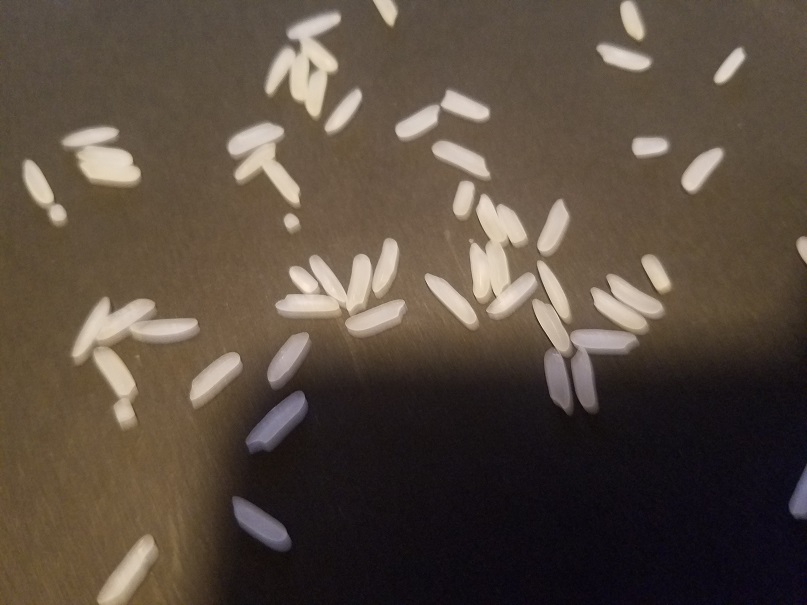egg: (95, 531, 160, 604), (243, 390, 311, 450), (420, 271, 483, 335), (228, 492, 292, 552), (587, 284, 653, 336), (188, 349, 244, 408), (90, 298, 158, 344), (605, 269, 667, 319), (67, 295, 113, 362), (485, 268, 539, 321), (431, 138, 496, 182), (532, 295, 575, 359), (542, 344, 578, 420), (533, 260, 575, 325), (344, 297, 409, 338), (678, 144, 727, 198), (263, 330, 312, 383), (257, 156, 305, 210), (569, 324, 643, 358), (124, 315, 201, 347), (224, 119, 287, 156), (535, 195, 571, 258), (440, 83, 495, 124), (294, 33, 343, 78), (470, 189, 510, 244), (93, 347, 137, 396), (321, 87, 363, 136), (15, 153, 55, 204), (369, 237, 402, 298), (261, 44, 297, 99), (283, 9, 343, 42), (307, 254, 346, 304), (75, 159, 144, 187), (395, 101, 441, 143), (491, 198, 531, 246), (598, 41, 657, 73), (235, 141, 278, 184), (272, 292, 343, 318), (570, 349, 598, 414), (467, 241, 495, 304), (615, 1, 652, 47), (60, 122, 120, 150), (346, 251, 373, 313), (714, 43, 751, 87), (640, 250, 675, 295), (484, 238, 512, 292), (70, 147, 137, 167), (450, 178, 480, 222), (305, 68, 330, 119), (625, 133, 672, 159), (286, 261, 320, 293), (111, 395, 140, 431), (290, 51, 309, 105), (787, 466, 806, 519), (373, 1, 402, 32), (48, 203, 69, 225), (282, 214, 304, 235), (794, 235, 807, 265)
